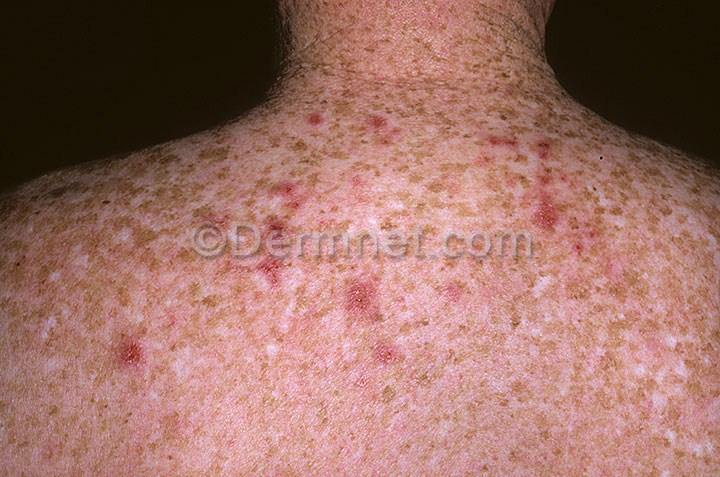Eczema: (463, 116, 590, 231), (329, 265, 438, 366), (246, 157, 336, 219), (99, 316, 174, 386), (350, 101, 421, 155), (241, 255, 304, 301), (296, 99, 336, 141), (567, 236, 594, 259)
